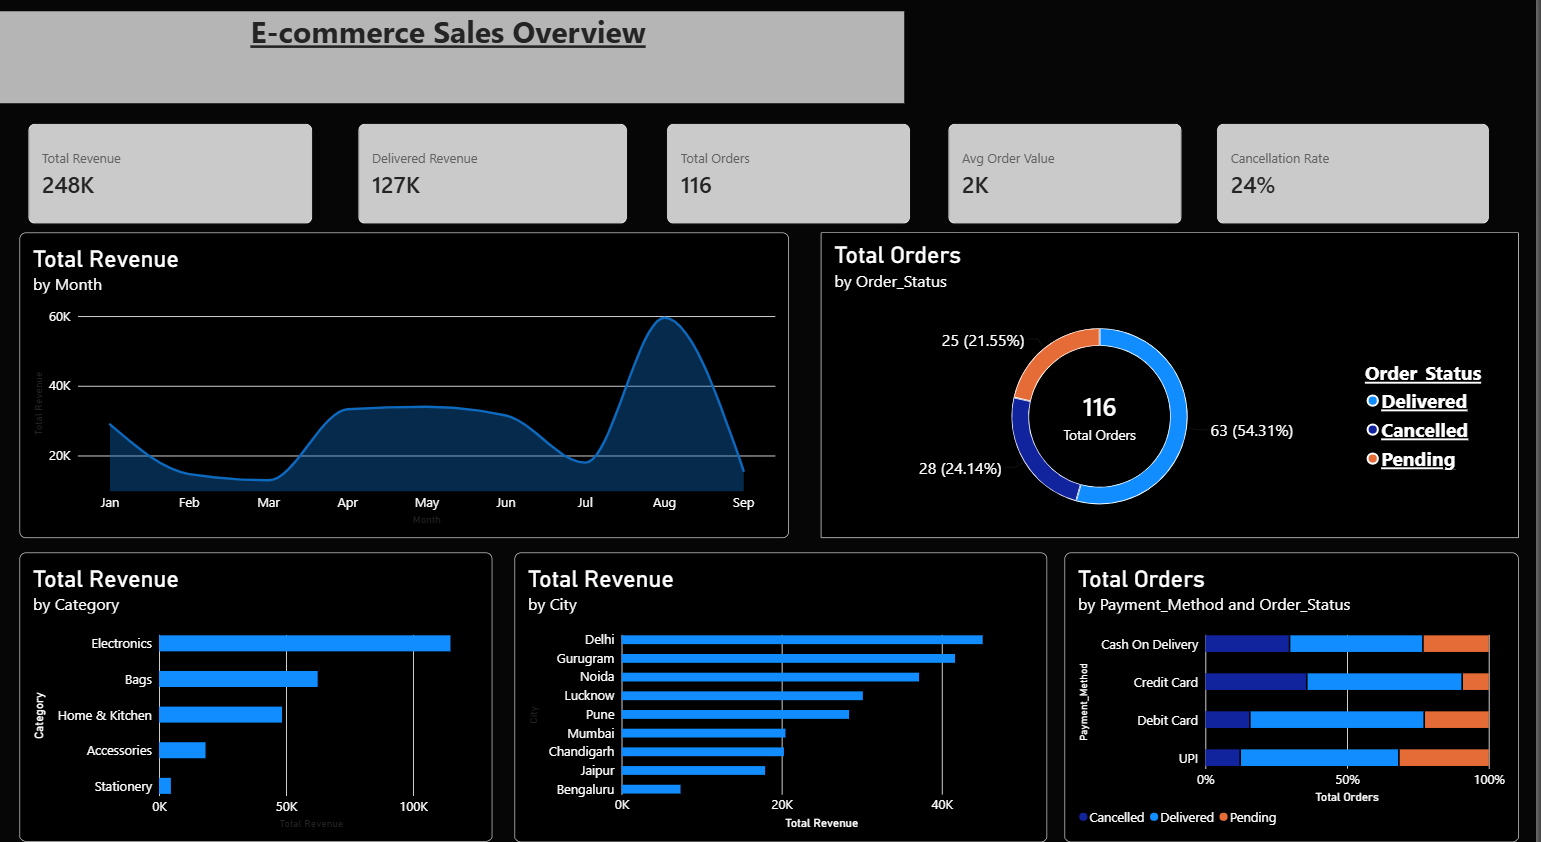

The page's visual inventory and layout, read from the dashboard file:
{"tool":"powerbi","page":{"name":"Page 1","canvas":[1920,1080],"ordinal":0},"visuals":[{"type":"cardVisual","fields":{"Data":["dashboard_data.Total Orders"]},"box":[829.3,156.1,324.4,146.3],"z":0},{"type":"cardVisual","fields":{"Data":["dashboard_data.Total Revenue"]},"box":[34.1,156.1,375.6,146.3],"z":1},{"type":"cardVisual","fields":{"Data":["dashboard_data.Delivered Revenue"]},"box":[443.9,156.1,356.1,146.3],"z":2},{"type":"cardVisual","fields":{"Data":["dashboard_data.Avg Order Value"]},"box":[1178,156.1,312.2,146.3],"z":3},{"type":"cardVisual","fields":{"Data":["dashboard_data.Cancellation Rate"]},"box":[1512.2,156.1,361,146.3],"z":4},{"type":"areaChart","fields":{"Category":["Calendar.Month"],"Y":["dashboard_data.Total Revenue"]},"box":[33.9,301.8,957.1,380.4],"z":5},{"type":"donutChart","fields":{"Category":["dashboard_data.Order_Status"],"Y":["dashboard_data.Total Orders"]},"box":[1030.4,301.8,867.9,380.4],"z":6},{"type":"clusteredBarChart","fields":{"Category":["dashboard_data.Category"],"Y":["dashboard_data.Total Revenue"]},"box":[34.1,700,587.8,361],"z":7},{"type":"hundredPercentStackedBarChart","fields":{"Category":["dashboard_data.Payment_Method"],"Series":["dashboard_data.Order_Status"],"Y":["dashboard_data.Total Orders"]},"box":[1333.1,699,564.8,361.4],"z":8},{"type":"clusteredBarChart","fields":{"Category":["dashboard_data.City"],"Y":["dashboard_data.Total Revenue"]},"box":[649.2,699,662.2,361.4],"z":9},{"type":"textbox","box":[0,26.8,1134.1,114.6],"z":10}]}

Visuals, with their boxes in screenshot pixels (x1, y1, x2, y2), scaled from the page's 1920x1080 canvas onto the 1541x842 screenshot:
cardVisual - dashboard_data.Total Orders: x1=666 y1=122 x2=926 y2=236
cardVisual - dashboard_data.Total Revenue: x1=27 y1=122 x2=329 y2=236
cardVisual - dashboard_data.Delivered Revenue: x1=356 y1=122 x2=642 y2=236
cardVisual - dashboard_data.Avg Order Value: x1=945 y1=122 x2=1196 y2=236
cardVisual - dashboard_data.Cancellation Rate: x1=1214 y1=122 x2=1503 y2=236
areaChart - Calendar.Month x dashboard_data.Total Revenue: x1=27 y1=235 x2=795 y2=532
donutChart - dashboard_data.Order_Status x dashboard_data.Total Orders: x1=827 y1=235 x2=1524 y2=532
clusteredBarChart - dashboard_data.Category x dashboard_data.Total Revenue: x1=27 y1=546 x2=499 y2=827
hundredPercentStackedBarChart - dashboard_data.Payment_Method x dashboard_data.Order_Status: x1=1070 y1=545 x2=1523 y2=827
clusteredBarChart - dashboard_data.City x dashboard_data.Total Revenue: x1=521 y1=545 x2=1053 y2=827
textbox: x1=0 y1=21 x2=910 y2=110
